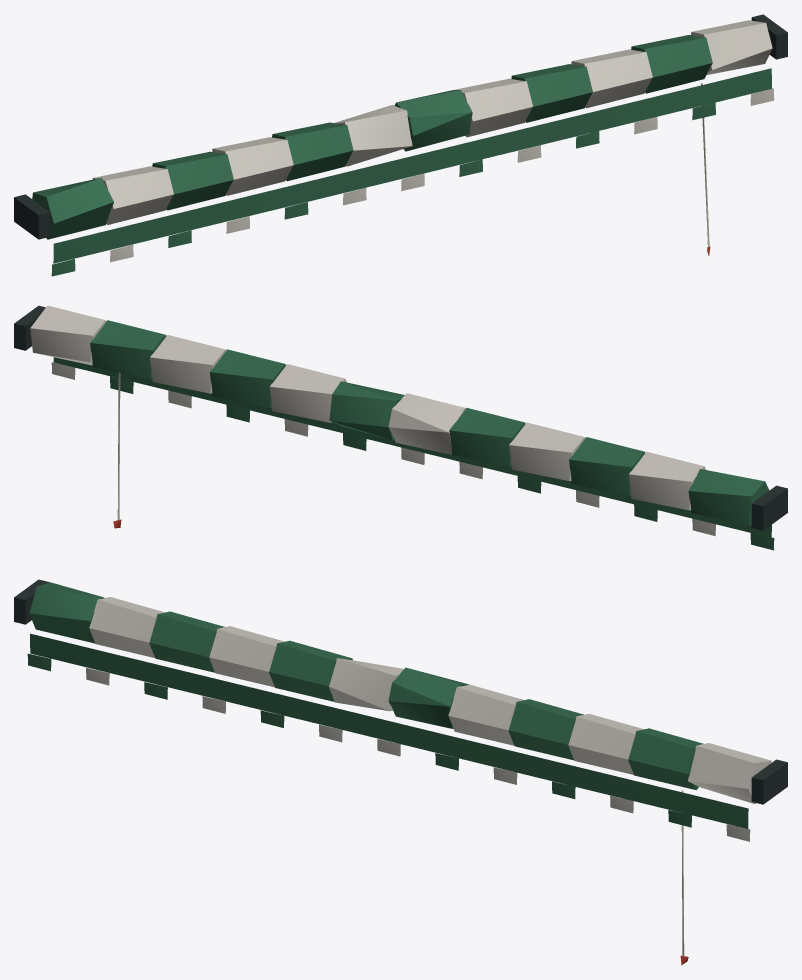
The model's file is bat_cuon.glb.
The picture shows the model from 3 angles, top to bottom: view 1: azimuth 30°, elevation 25°; view 2: azimuth 150°, elevation 25°; view 3: azimuth 330°, elevation 25°; orthographic projection.
Visible parts, largest first — view 1: bat_cuon; view 2: bat_cuon; view 3: bat_cuon.
Boxes of the visible parts, x1,y1,x2,y2 form: bat_cuon: [14, 14, 787, 276]; bat_cuon: [14, 305, 787, 550]; bat_cuon: [14, 579, 787, 965].
Size of the model in its own units: 3.86 by 1.05 by 0.2333.
